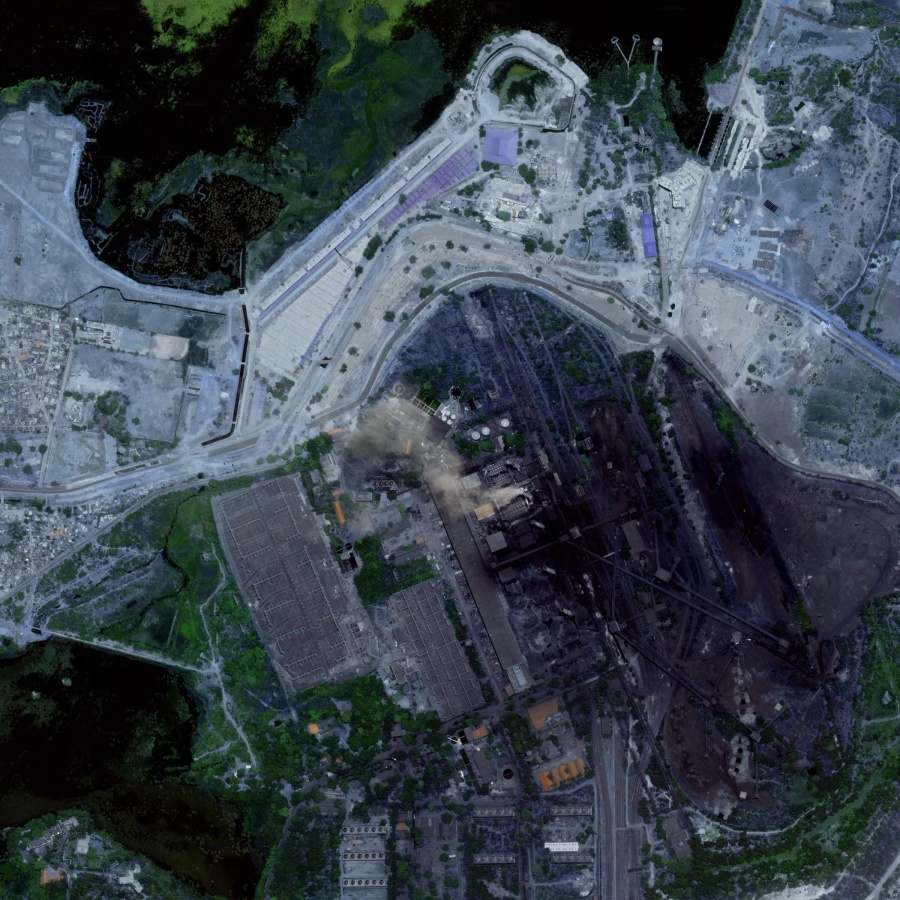PowerPlant: (364, 271, 855, 810)
